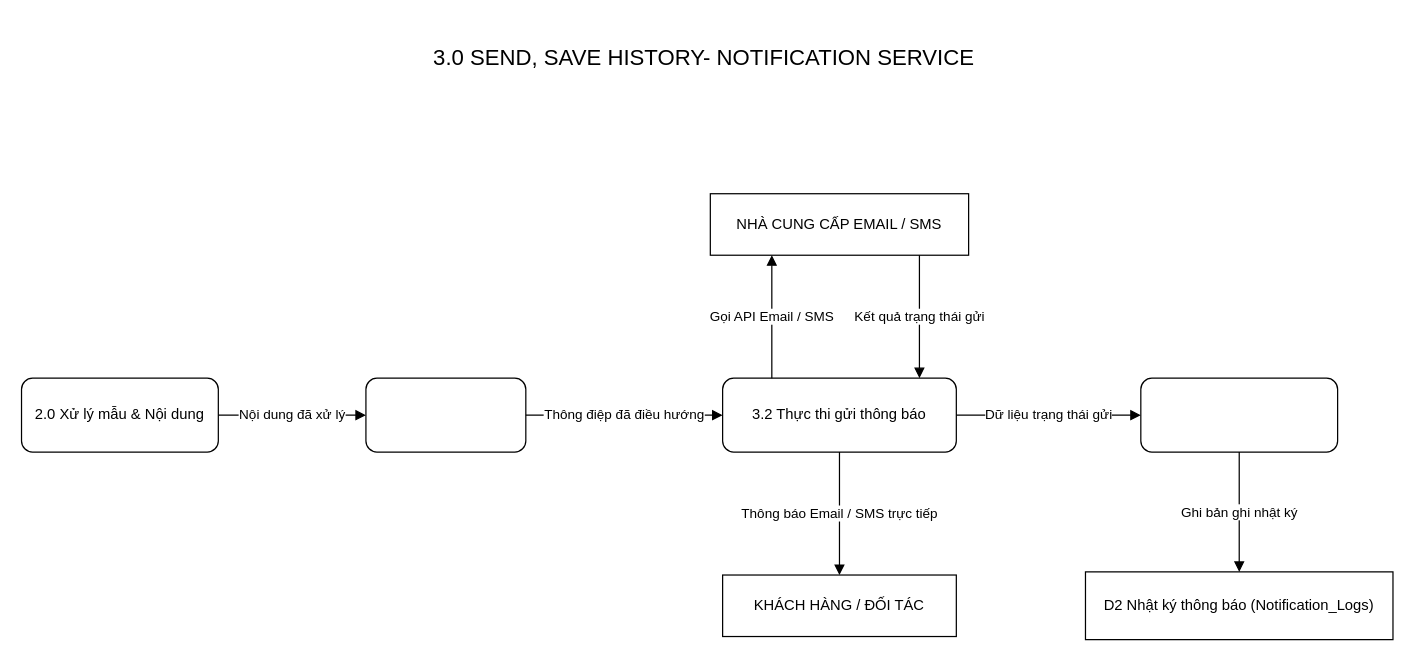
Some shapes in this 1415 by 661 pixel diagram are drawn without their labels. Each missing label, with the centre of its shape:
"3.1 Chọn kênh gửi" belongs at (x=445, y=414).
"3.3 Ghi nhật ký gửi" belongs at (x=1239, y=414).
